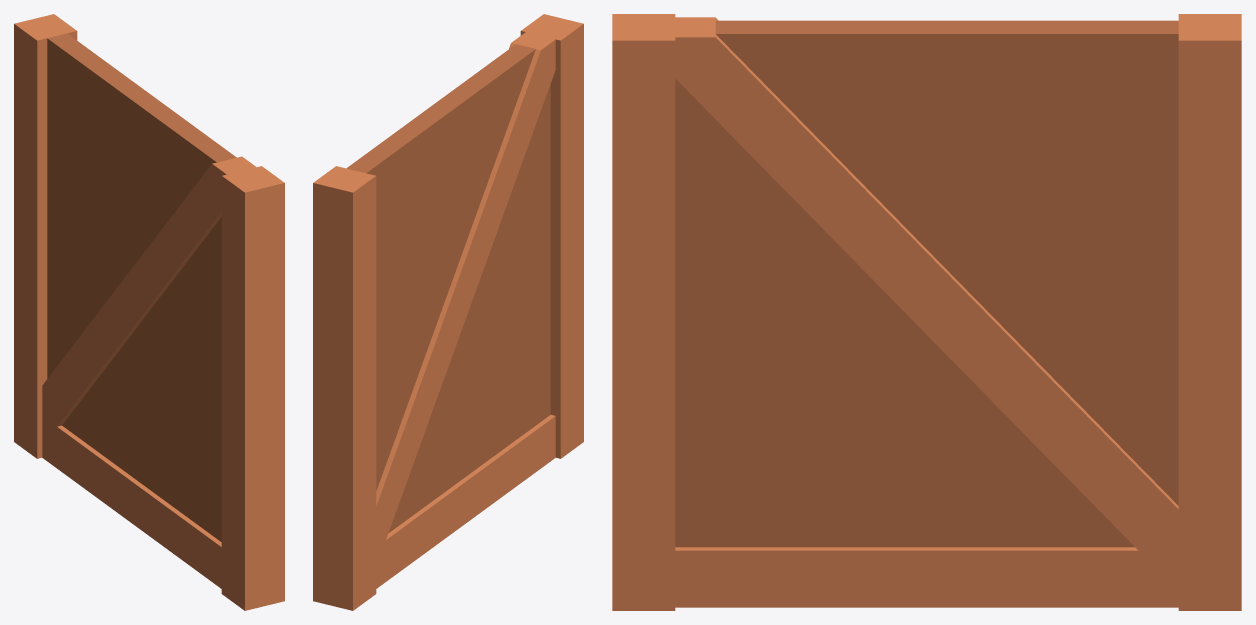
Rendered from wallWoodDetailDiagonal.fbx.
The picture shows the model from 3 angles, left to right: view 1: azimuth 30°, elevation 25°; view 2: azimuth 150°, elevation 25°; view 3: azimuth 270°, elevation 25°; orthographic projection. The views are drawn at different scales.
Parts seen in each view (by area): view 1: wallWoodDetailDiagonal; view 2: wallWoodDetailDiagonal; view 3: wallWoodDetailDiagonal.
Boxes of the visible parts, x1,y1,x2,y2 form: wallWoodDetailDiagonal: [14, 14, 284, 610]; wallWoodDetailDiagonal: [313, 14, 583, 610]; wallWoodDetailDiagonal: [612, 14, 1241, 610].
Bounding box in the file's own units: 1 × 10 × 10.
